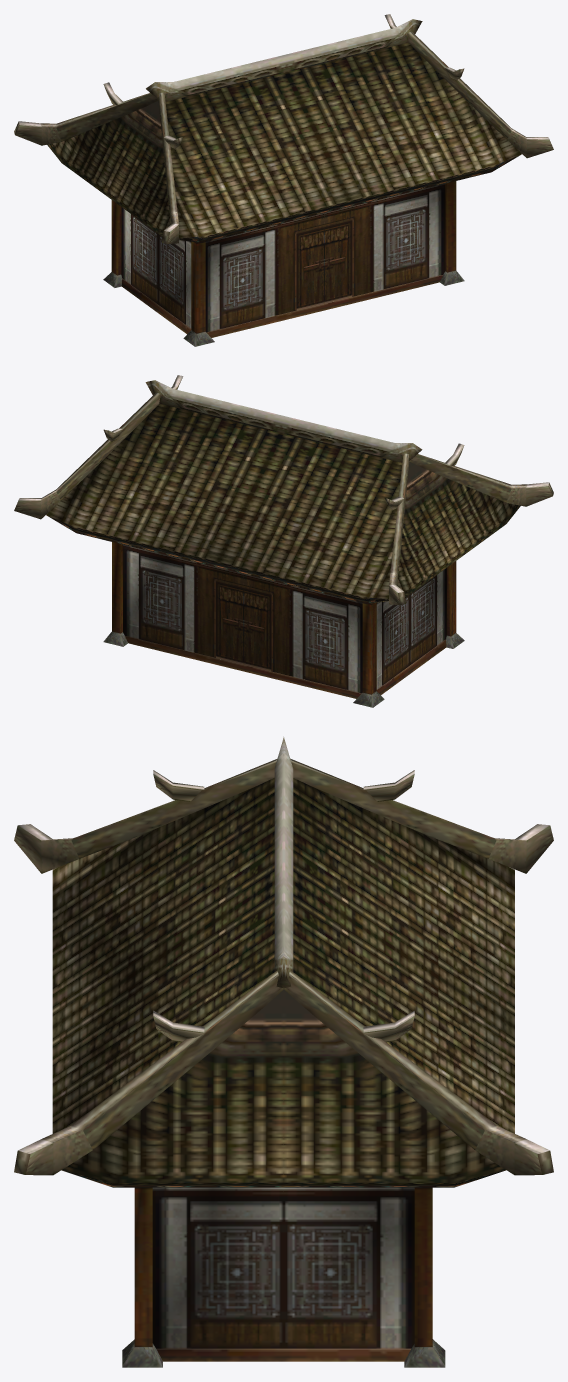
File: b1-016-house9_lod_01.glb
3 renders of one model, top to bottom at view 1: azimuth 30°, elevation 25°; view 2: azimuth 150°, elevation 25°; view 3: azimuth 270°, elevation 25°, orthographic. The views are drawn at different scales.
Visible parts, largest first — view 1: b1-016-house9; view 2: b1-016-house9; view 3: b1-016-house9.
Boxes of the visible parts, x1,y1,x2,y2 form: b1-016-house9: [14, 14, 553, 346]; b1-016-house9: [14, 375, 553, 707]; b1-016-house9: [14, 737, 553, 1367].
Size of the model in its own units: 12.38 by 6.95 by 8.41.
1 material, 1 textured.
